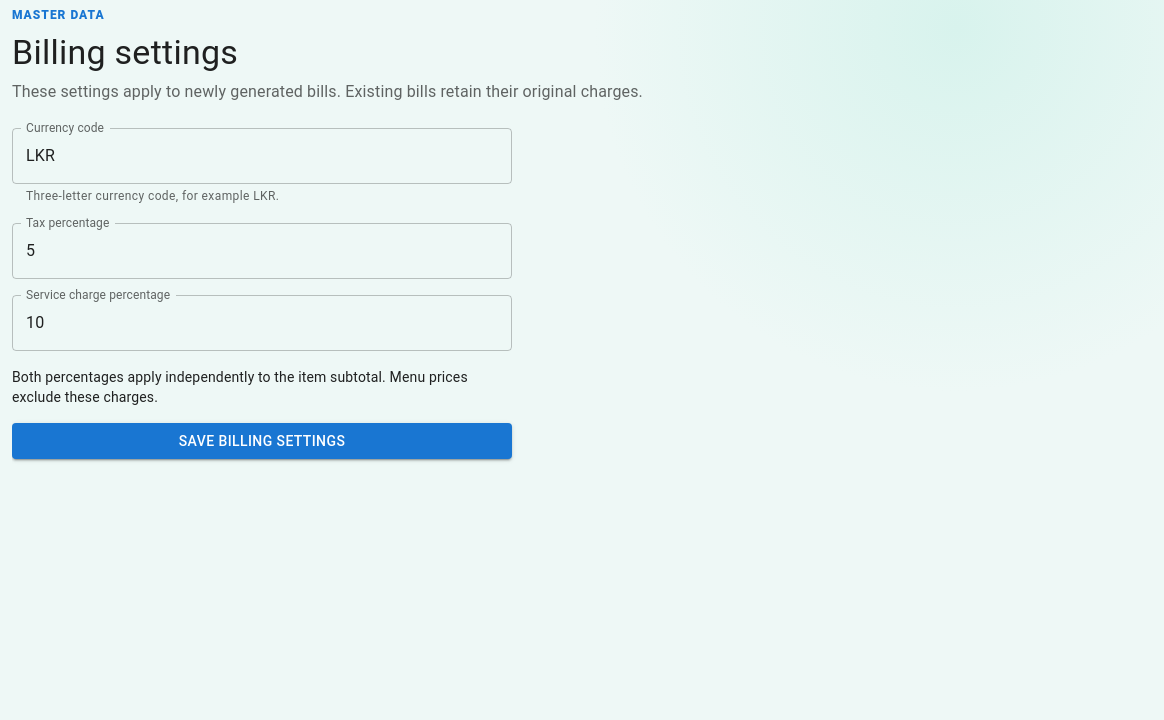
Test case: refreshes displayed settings after a conflict instead of overwriting a concurrent manager change
The width and height of the screenshot is (1164, 720).
Replace the text in the field labelled "Tax percentage" with "6" at (262, 251), box [12,223,512,279]
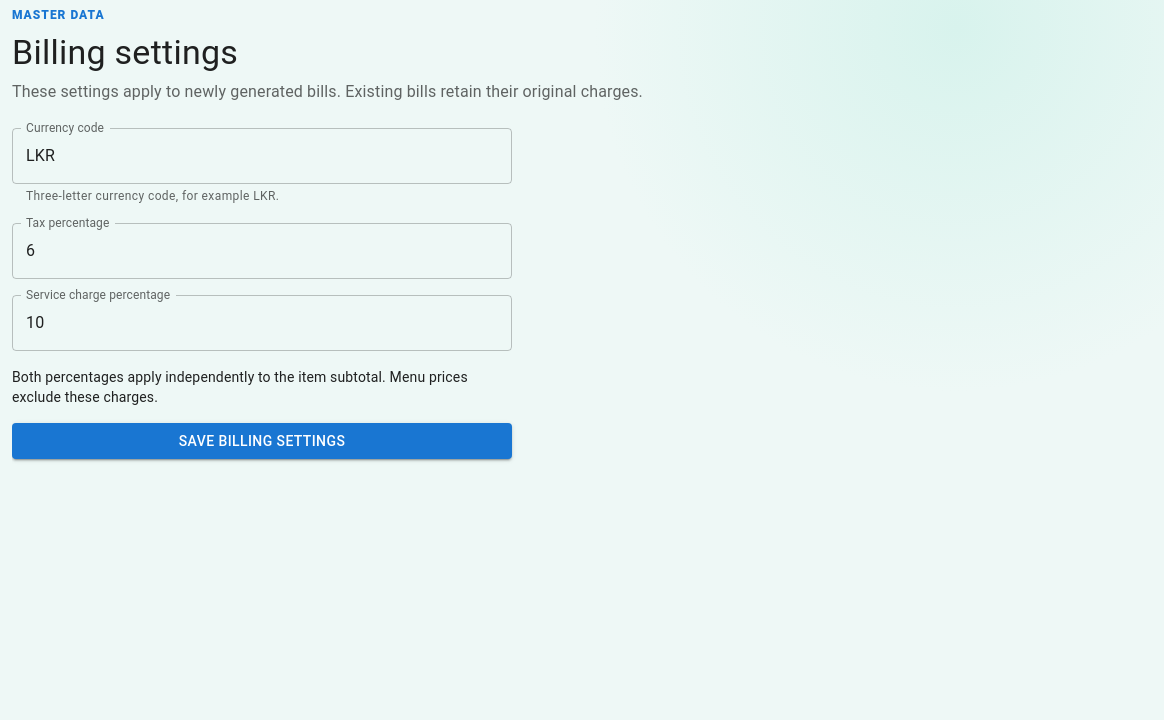
Click the button "Save billing settings" at (262, 441), box [12,423,512,459]
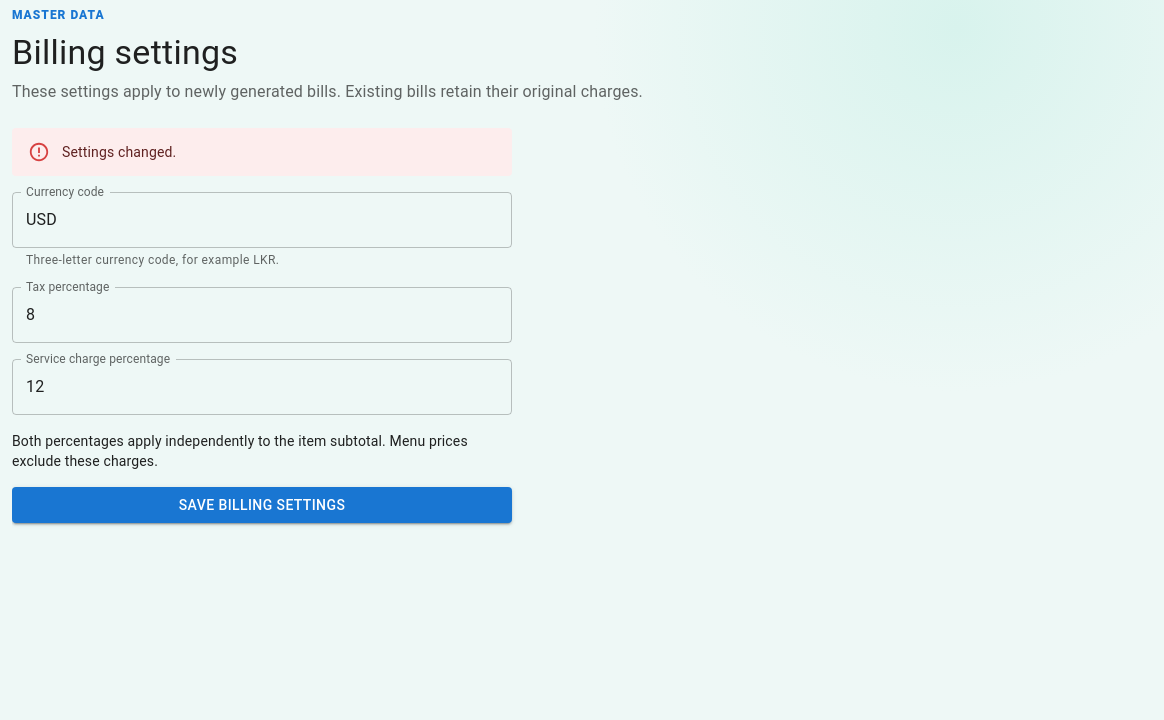
Expected: the text "Settings changed." is shown, [62,144,176,160]
Expected: the field labelled "Currency code" holds "USD", [12,192,512,248]
Expected: the field labelled "Tax percentage" holds "8", [12,287,512,343]
